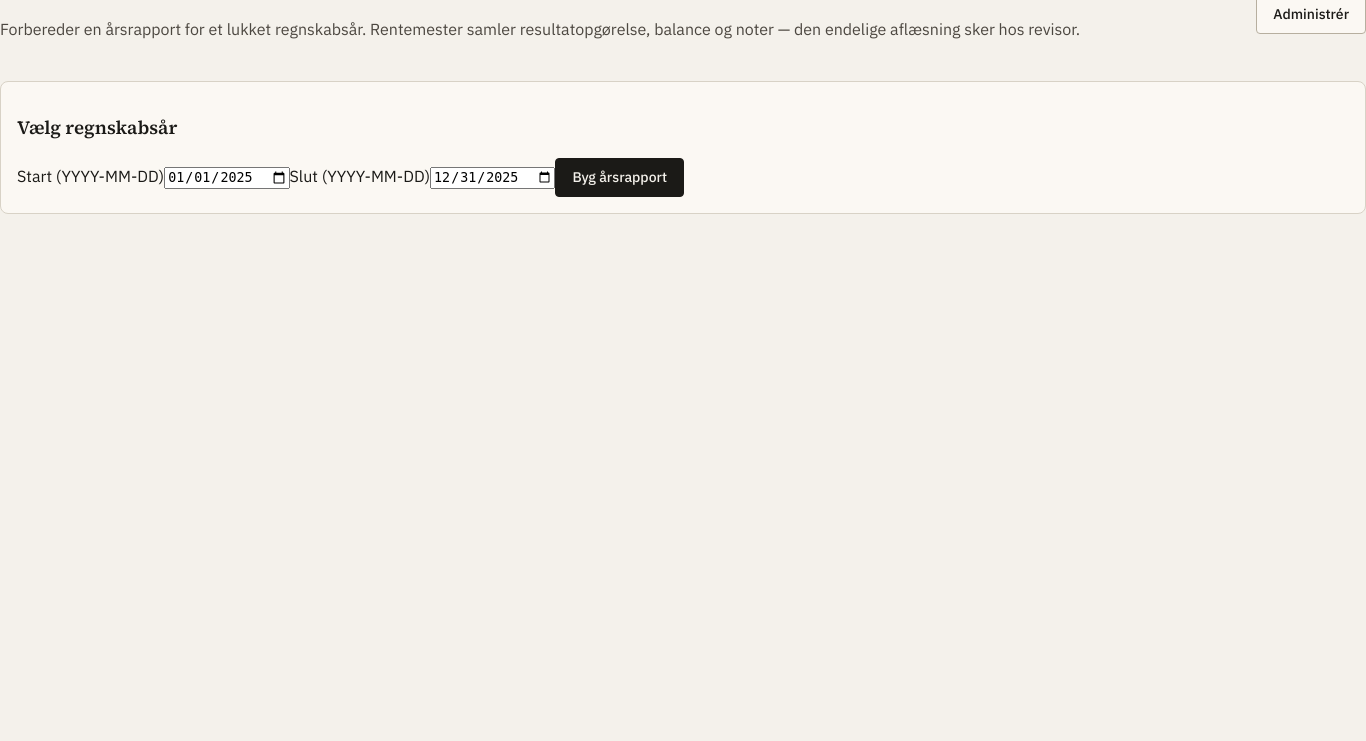
Test: AnnualReportView (#338) › succes-respons viser stamdata + resultatopgørelse + balance
Click the button "Byg årsrapport".
click(620, 178)  # box [555,158,684,197]
(page scrolled)
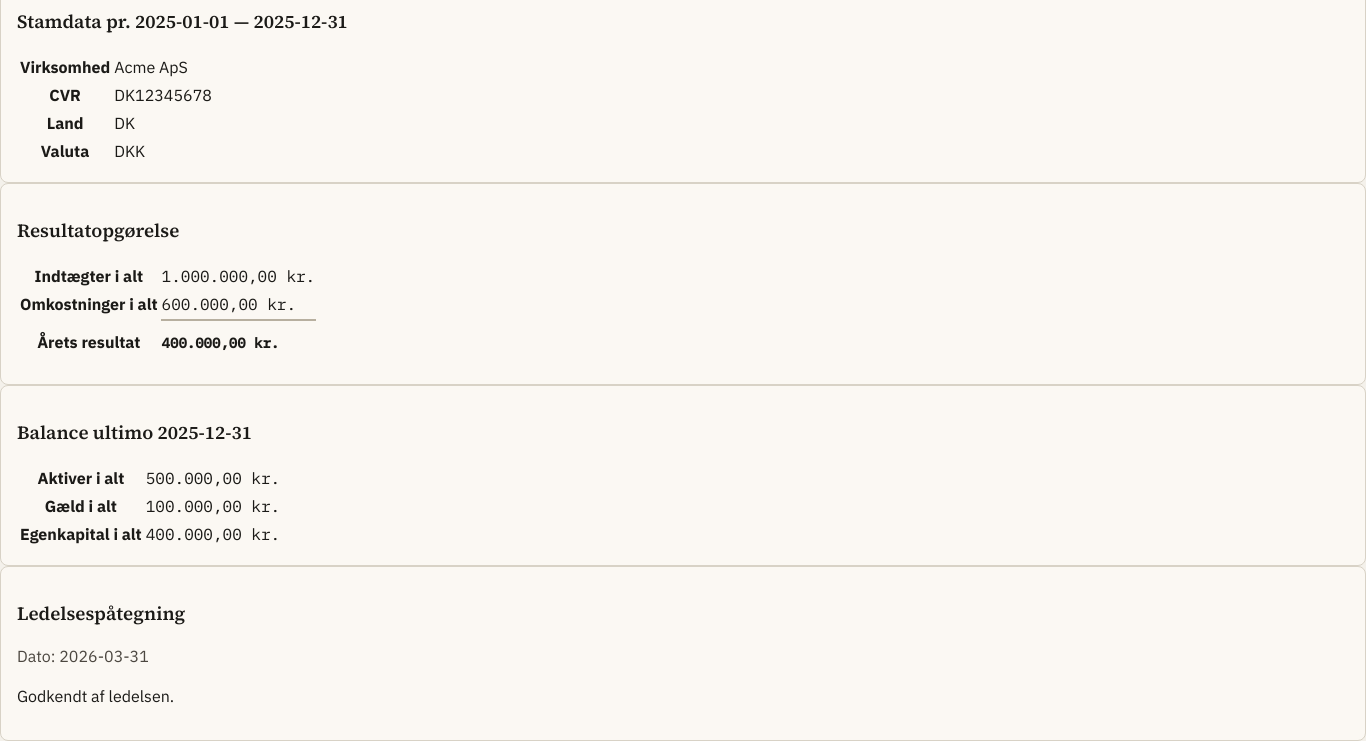
Now the heading "Resultatopgørelse" is shown, box [17,218,179,243]
Now the heading "Ledelsespåtegning" is shown, box [17,600,185,626]
Now the text "Godkendt af ledelsen." is shown, box [17,686,174,706]
